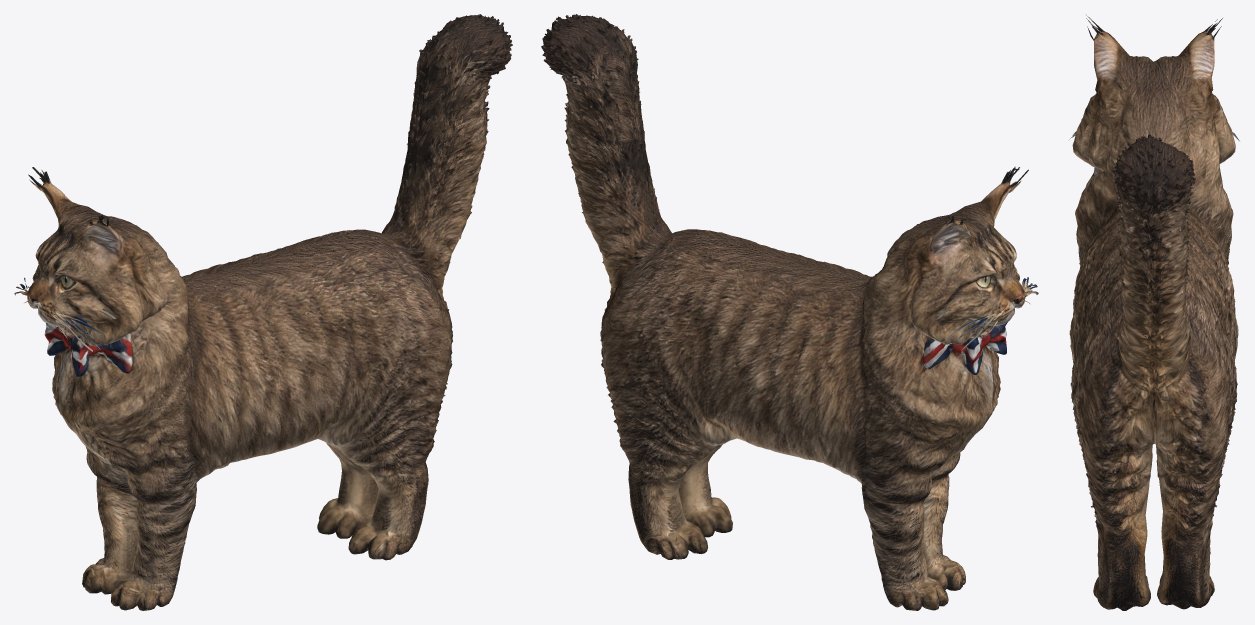
File: HANK4SEN.glb
The picture shows the model from 3 angles, left to right: view 1: azimuth 30°, elevation 25°; view 2: azimuth 150°, elevation 25°; view 3: azimuth 270°, elevation 25°; orthographic projection. The views are drawn at different scales.
Parts seen in each view (by area): view 1: tripo_node_e20af898-f5bf-4321-bd53-08f81b6b3042; view 2: tripo_node_e20af898-f5bf-4321-bd53-08f81b6b3042; view 3: tripo_node_e20af898-f5bf-4321-bd53-08f81b6b3042.
Part boxes in pixels (x1,y1,x2,y2): tripo_node_e20af898-f5bf-4321-bd53-08f81b6b3042: (14, 14, 512, 610); tripo_node_e20af898-f5bf-4321-bd53-08f81b6b3042: (541, 14, 1038, 610); tripo_node_e20af898-f5bf-4321-bd53-08f81b6b3042: (1069, 15, 1239, 610).
Bounding box in the file's own units: 0.9981 × 0.9999 × 0.3052.
1 material, 1 textured.
